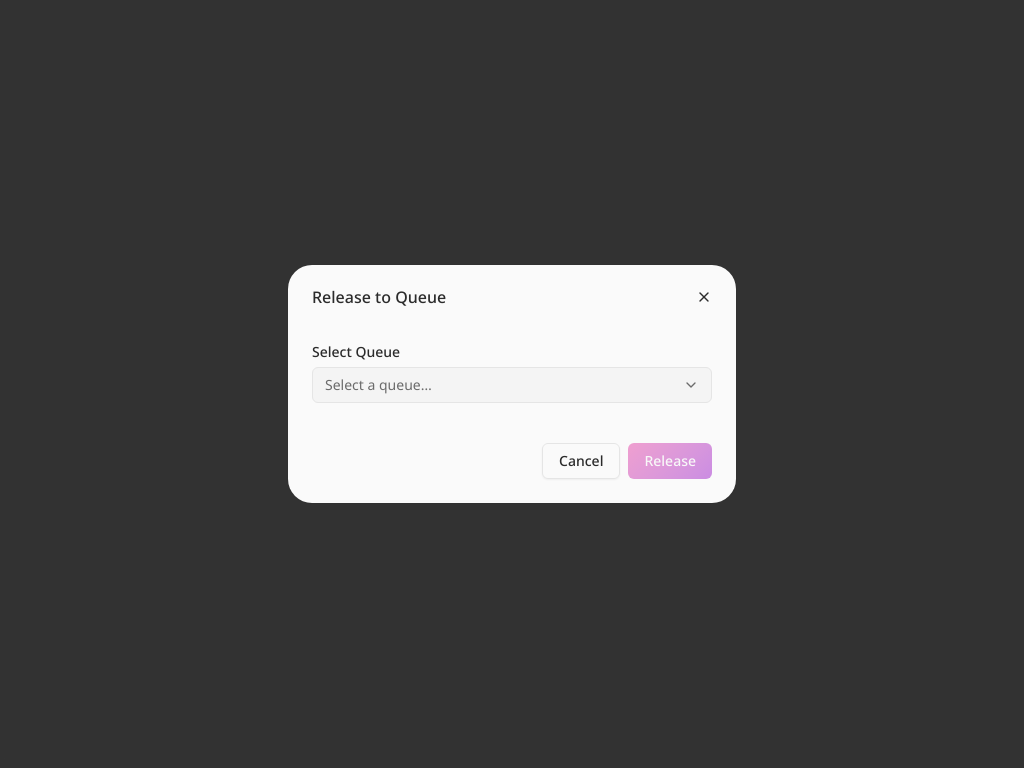
Test: surrogate detail dialog pickers › does not offer the queue placeholder as a pickable option
Click the dropdown named "select queue".
click(378, 384)  # box x1=312 y1=367 x2=712 y2=403
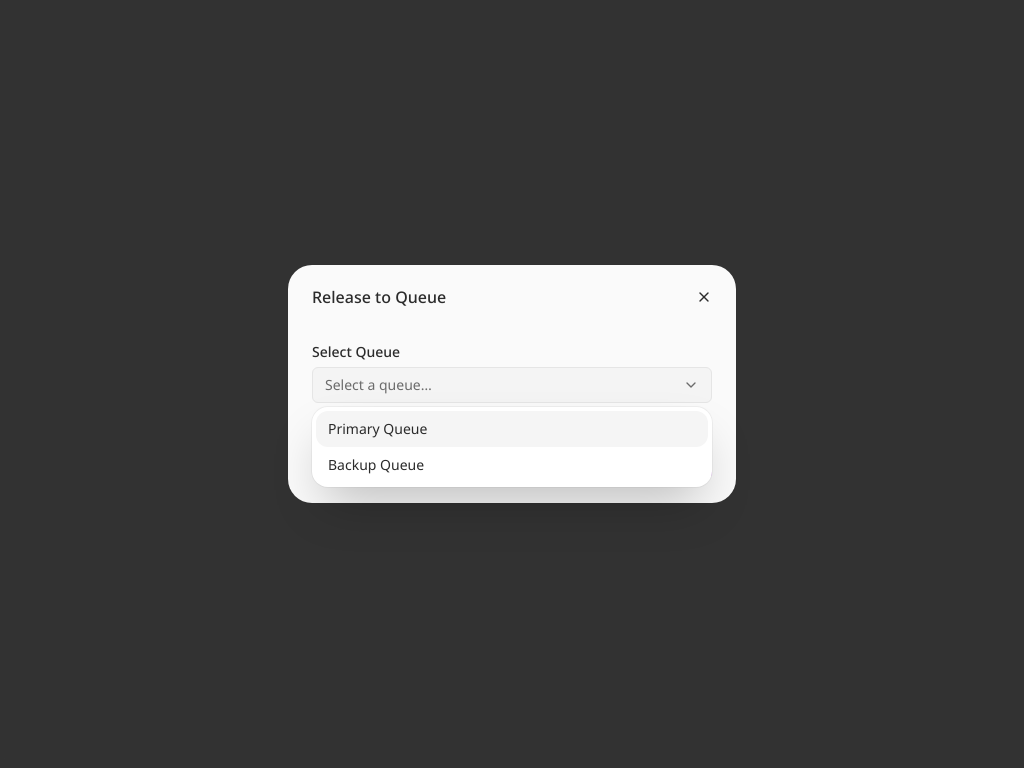
Expected: the button "Release" is disabled, x1=628 y1=443 x2=712 y2=479
Expected: the options read "Primary Queue", "Backup Queue", in this order, x1=316 y1=411 x2=708 y2=447; x1=328 y1=455 x2=424 y2=474
